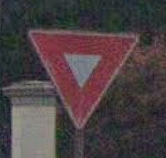cedeaza: (26, 27, 140, 130)
